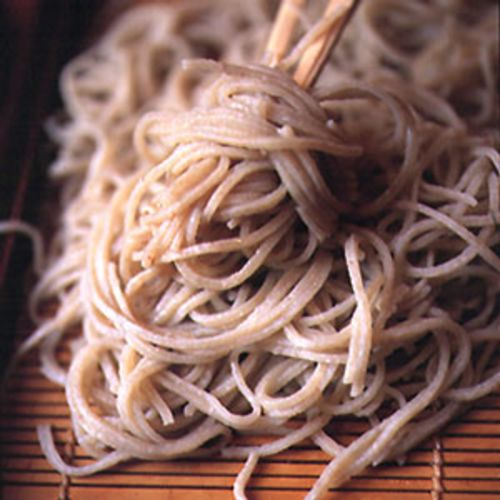Soba: (53, 10, 500, 472)
